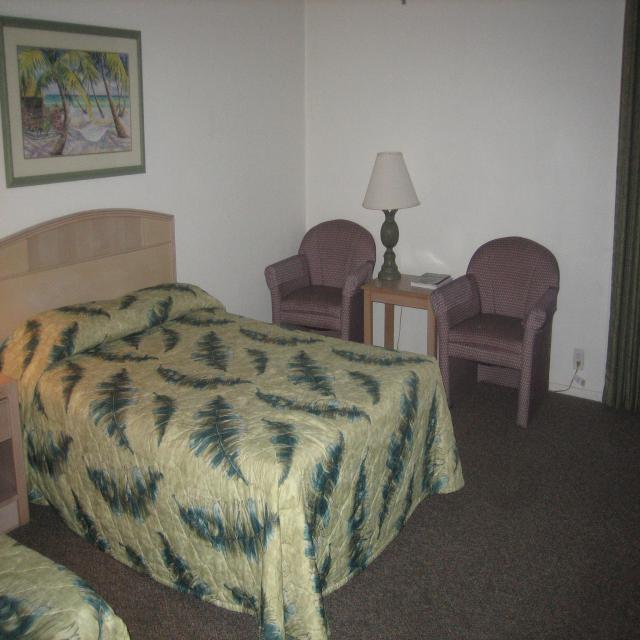bed -occluded-: (3, 209, 467, 638)
book case: (411, 272, 451, 290)
chair -occluded-: (430, 236, 559, 427), (262, 220, 377, 374)
lamp: (365, 152, 419, 212)
lamp crop: (362, 153, 420, 282)
outlet: (572, 348, 584, 371)
painting crop: (1, 16, 146, 191)
wall clock: (0, 347, 640, 640), (0, 0, 310, 518), (303, 0, 640, 415)
